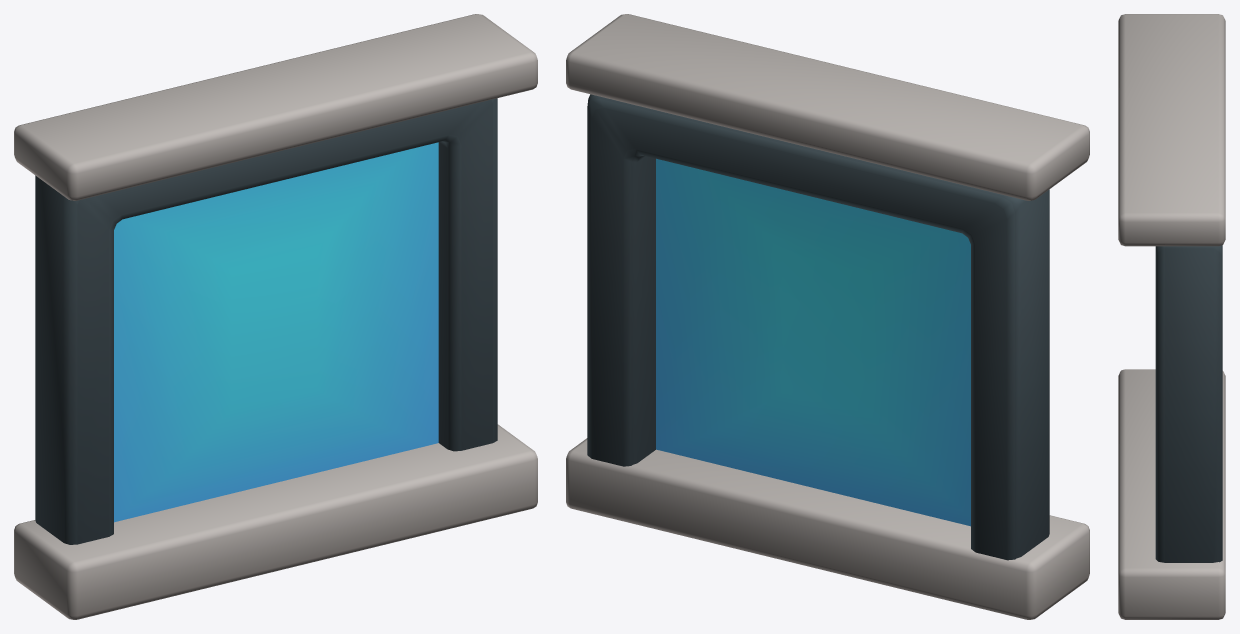
Rendered from mct_homepart_window02.fbx.
The picture shows the model from 3 angles, left to right: view 1: azimuth 30°, elevation 25°; view 2: azimuth 150°, elevation 25°; view 3: azimuth 270°, elevation 25°; orthographic projection. The views are drawn at different scales.
Visible parts, largest first — view 1: mct_window_02; view 2: mct_window_02; view 3: mct_window_02.
Part boxes in pixels (left/top/right/bottom): mct_window_02: left=14, top=14, right=537, bottom=619; mct_window_02: left=566, top=14, right=1089, bottom=619; mct_window_02: left=1118, top=14, right=1225, bottom=619.
Bounding box in the file's own units: 157 × 146 × 34.85.
